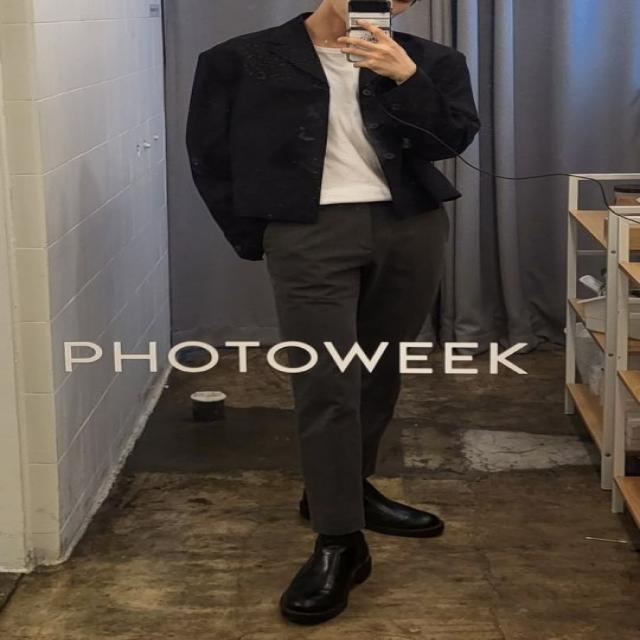blazer: (185, 10, 480, 262)
slacks: (259, 198, 449, 533)
